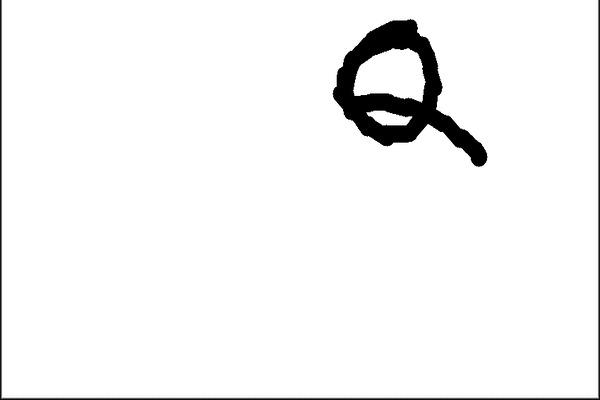Q: (322, 6, 480, 165)
